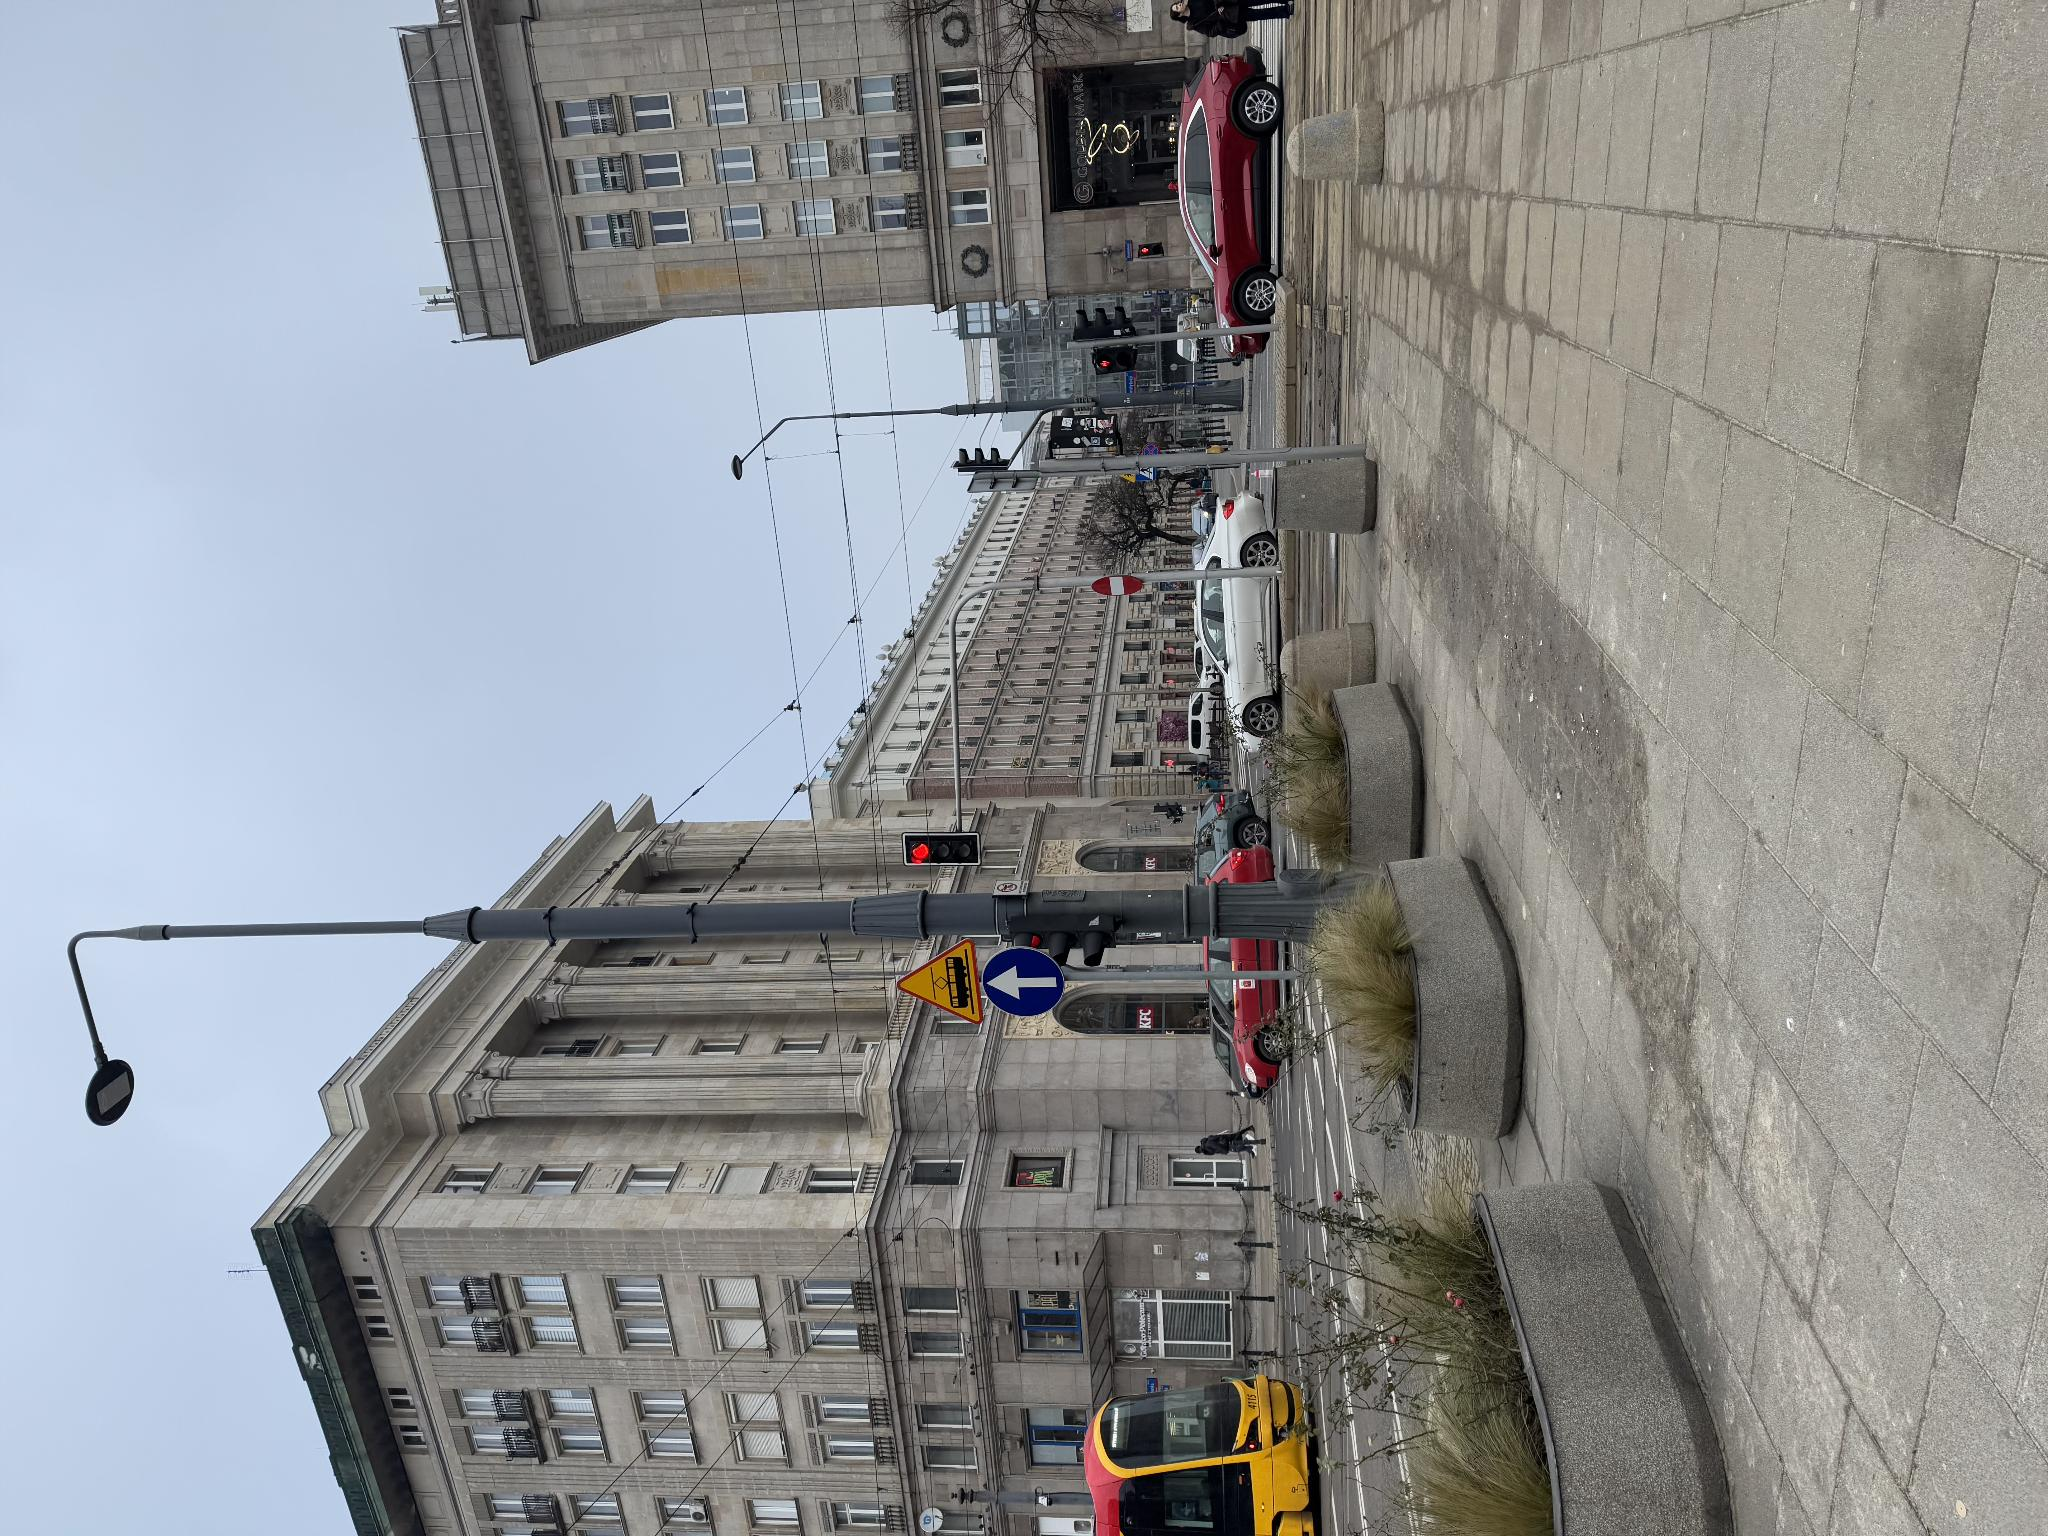information: (1053, 1136, 1069, 1155)
mandatory: (519, 981, 592, 1065)
prohibitory: (940, 1091, 963, 1142), (1080, 1142, 1093, 1160)
warning: (511, 895, 598, 983), (1055, 1118, 1063, 1134)
